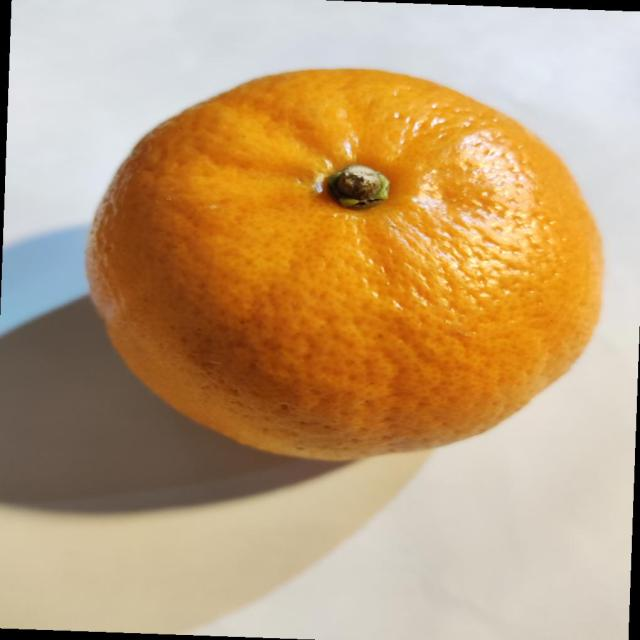fresh orange: (84, 66, 605, 463)
